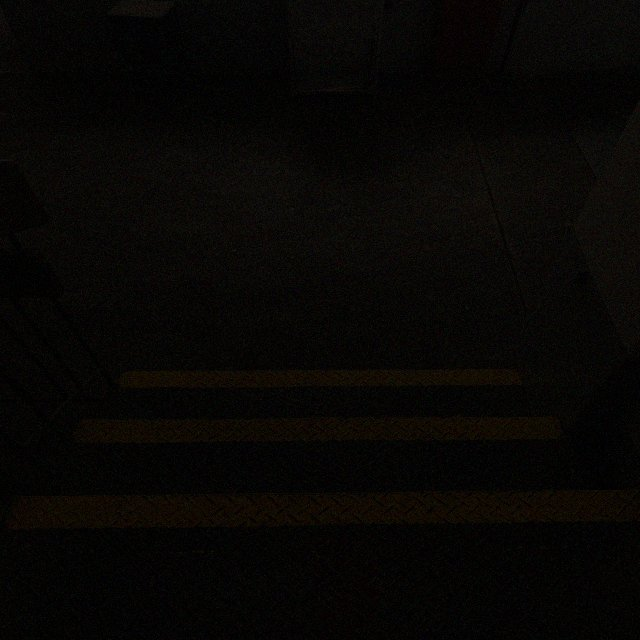stair: (6, 367, 636, 635)
